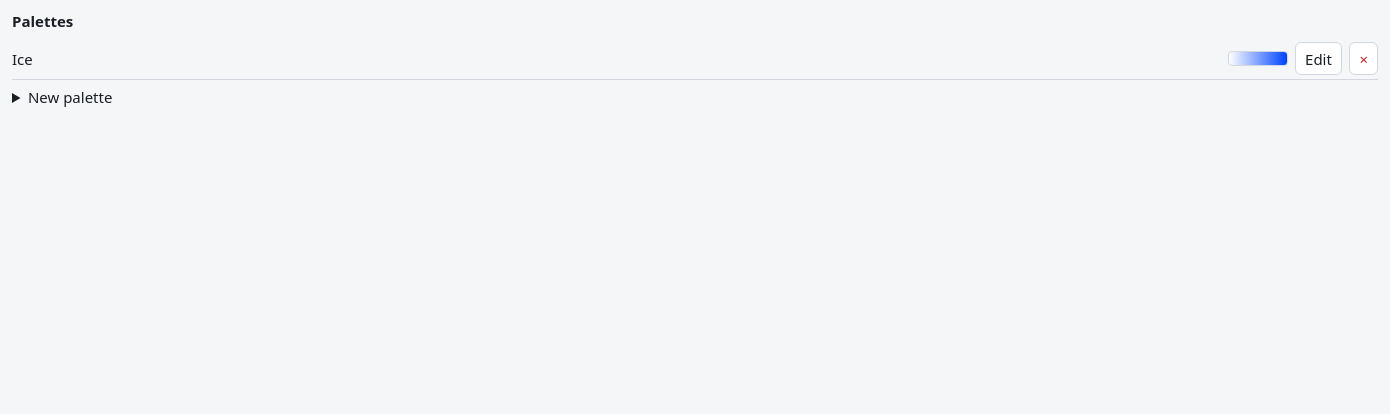
edit loads an existing palette; delete asks first
This screenshot has width=1390, height=414.
Later steps or results of the test are not shown.
Click the button "Edit" at (1318, 59), box x1=1295 y1=42 x2=1342 y2=75
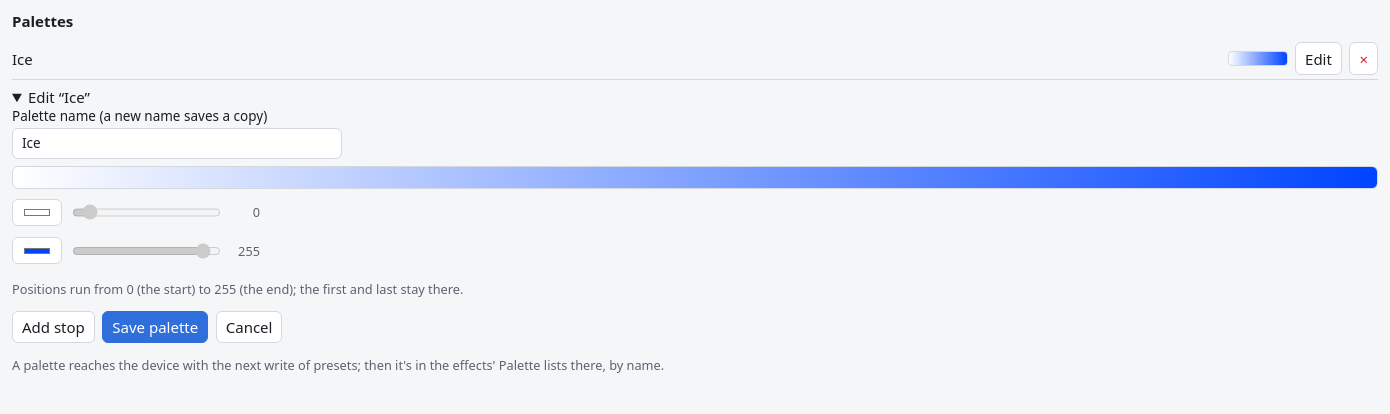
Expected: the heading "Edit “Ice”" is shown, x1=28 y1=87 x2=90 y2=107
Expected: the field labelled "Palette name (a new name saves a copy)" holds "Ice", x1=12 y1=128 x2=342 y2=158
Expected: the colour field named "Stop 2 colour" holds "#0044ff", x1=12 y1=237 x2=62 y2=264
Click the button named "Delete palette Ice" at (1364, 59), box x1=1349 y1=42 x2=1378 y2=75
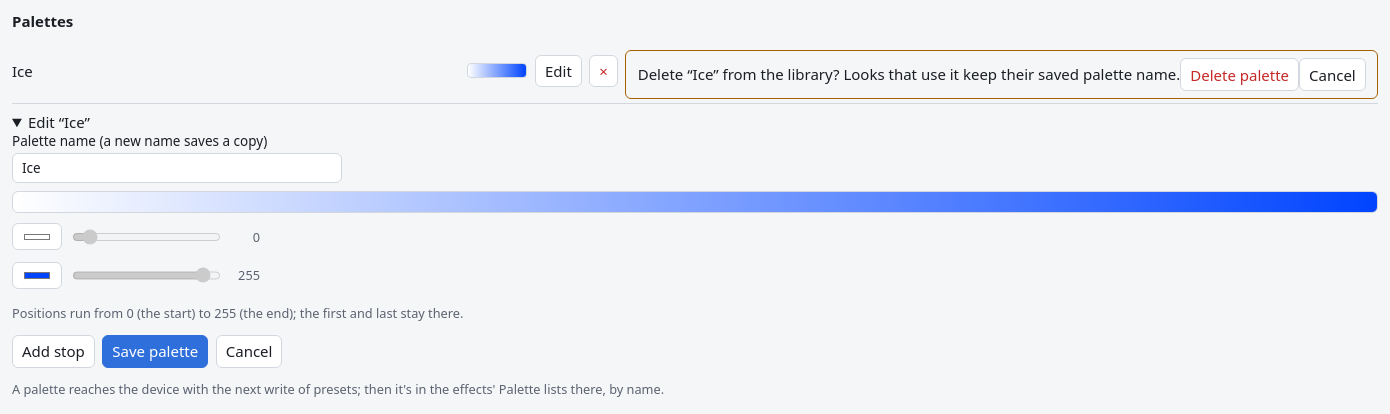
Expected: the element named "Delete palette Ice?" shows "Looks that use it keep their saved palette name", x1=713 y1=64 x2=1180 y2=84
